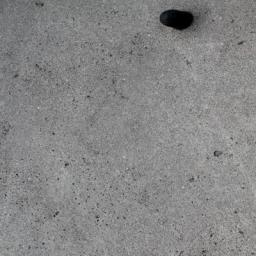FOD: (157, 9, 196, 34)
